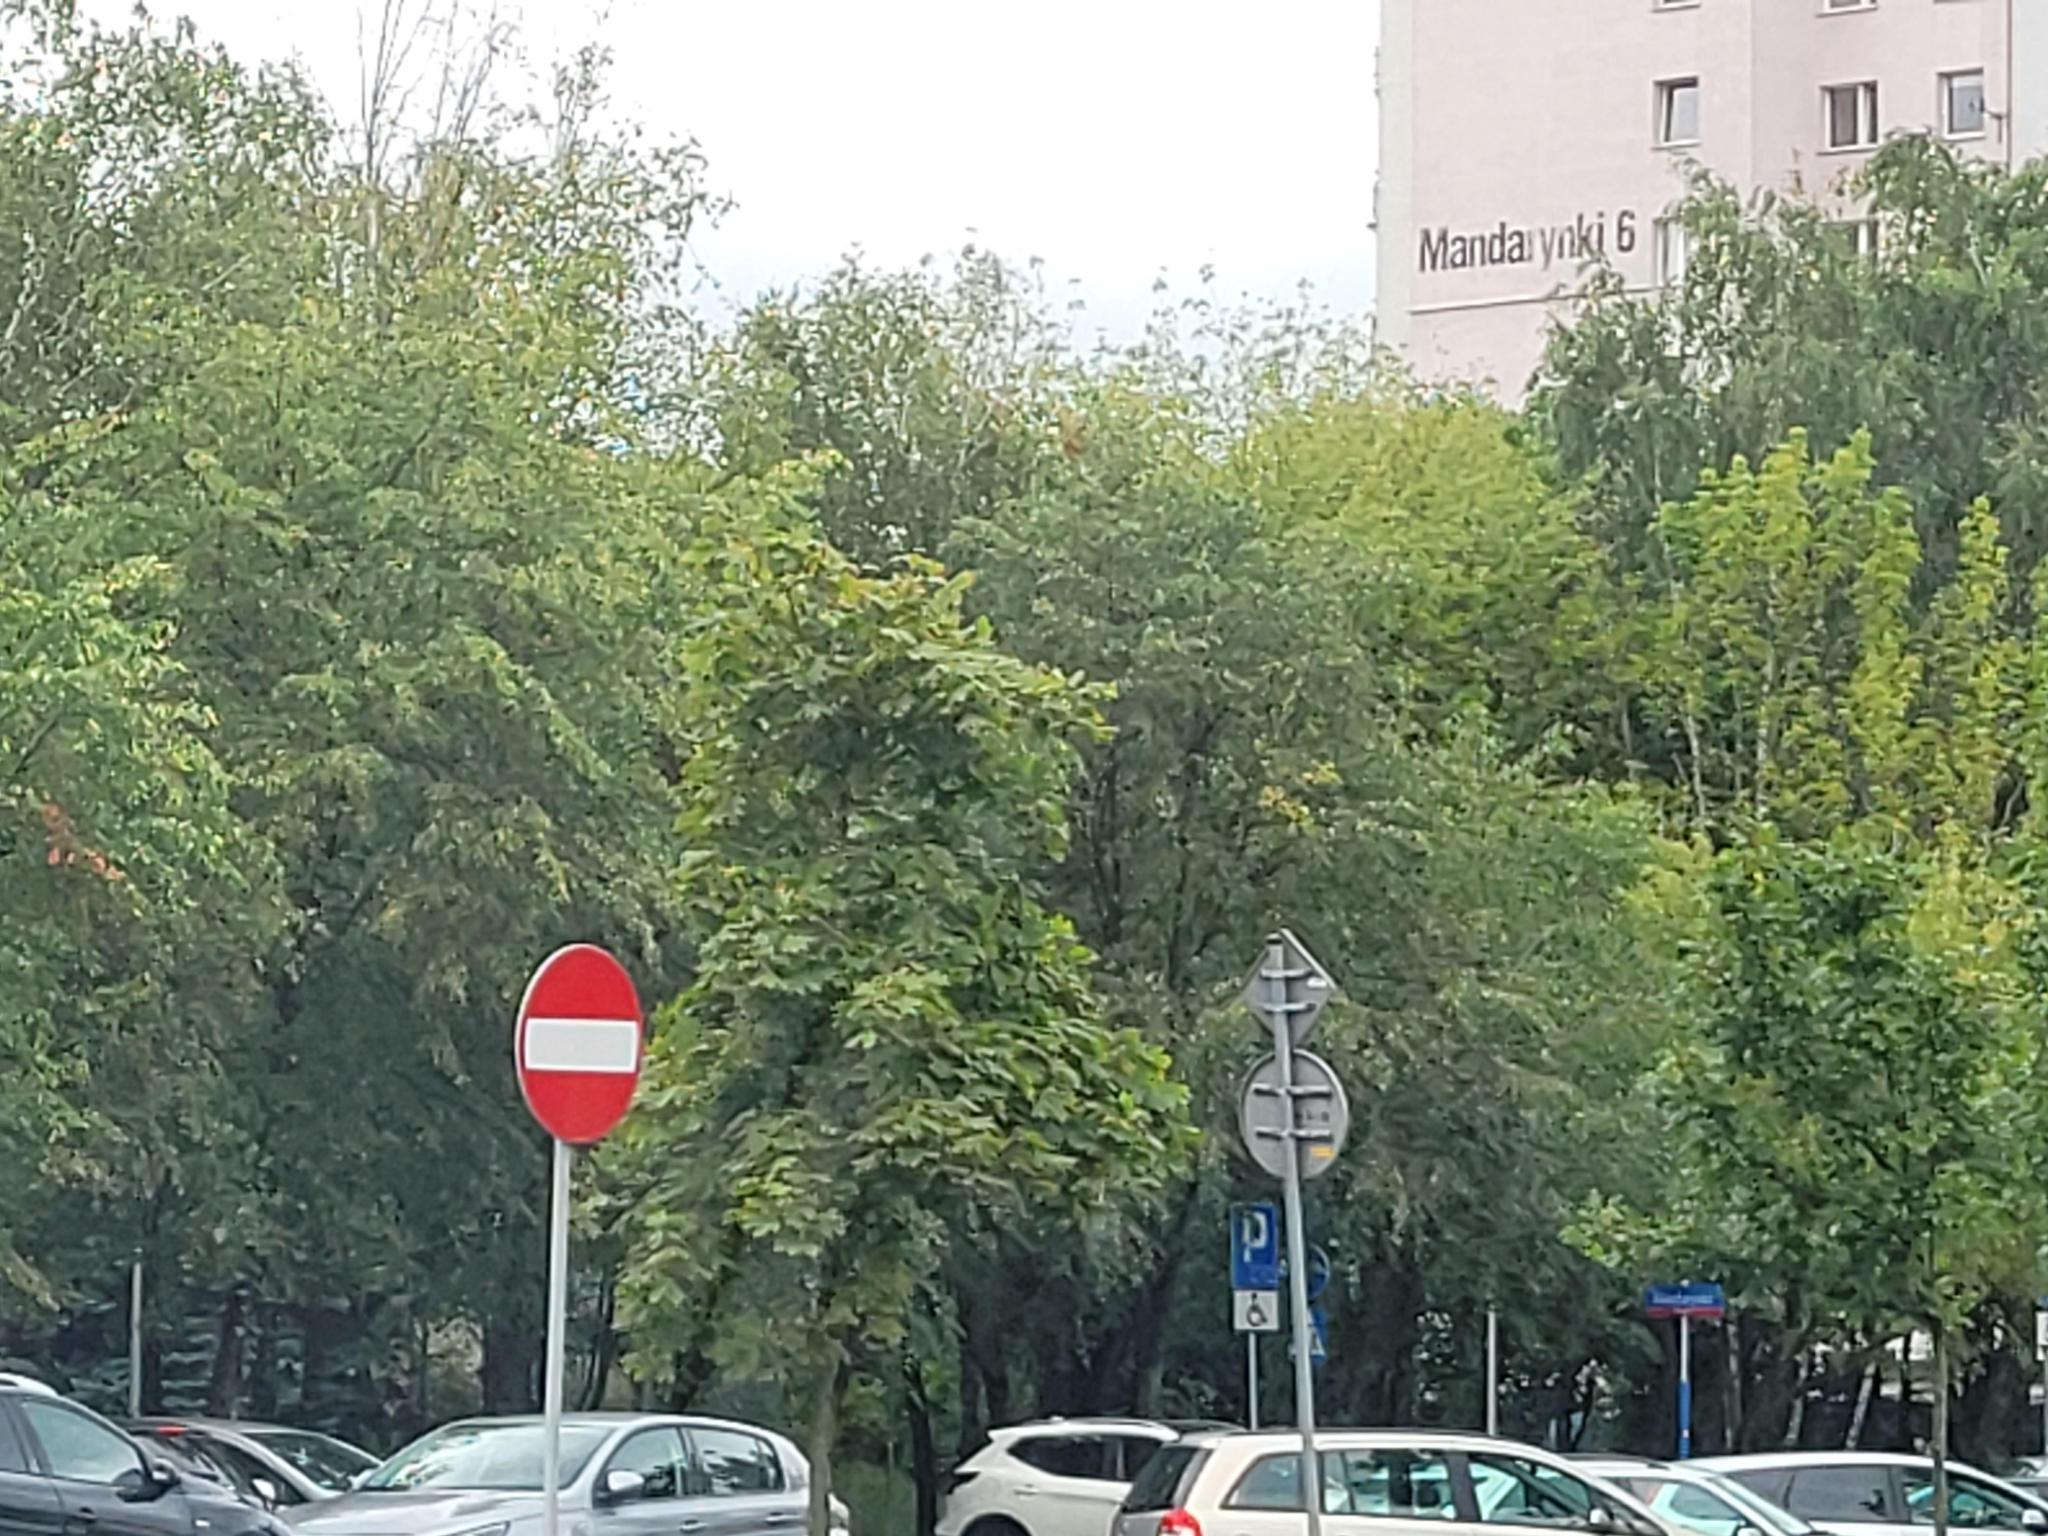information: (1234, 1204, 1277, 1286)
prohibitory: (514, 942, 647, 1147)
